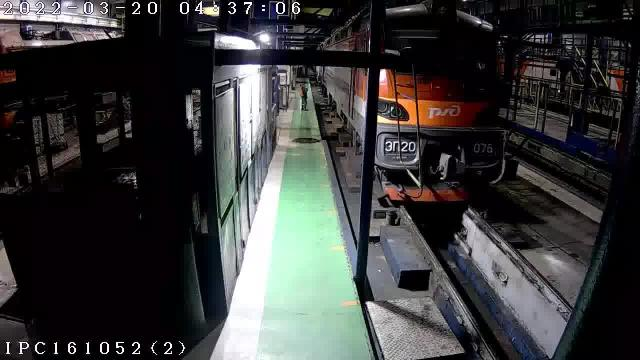person: (299, 84, 308, 110)
train: (375, 2, 505, 183)
